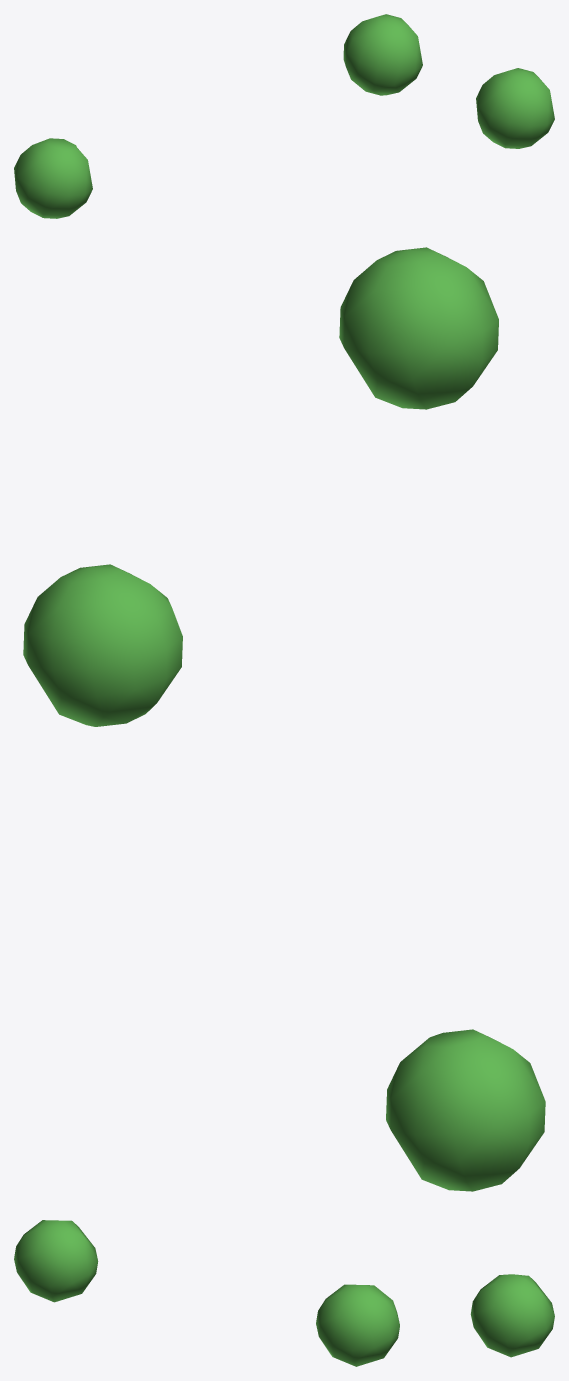
The model's file is linfatico-superior-pancreaticoduodenal-nodes.glb.
The picture shows the model from 3 angles, top to bottom: view 1: azimuth 30°, elevation 25°; view 2: azimuth 150°, elevation 25°; view 3: azimuth 270°, elevation 25°; orthographic projection. The views are drawn at different scales.
Visible parts, largest first — view 1: Superior pancreaticoduodenal nodes; view 2: Superior pancreaticoduodenal nodes; view 3: Superior pancreaticoduodenal nodes.
Part boxes in pixels (x1=…): Superior pancreaticoduodenal nodes: x1=14, y1=14, x2=554, y2=218; Superior pancreaticoduodenal nodes: x1=23, y1=247, x2=545, y2=1191; Superior pancreaticoduodenal nodes: x1=14, y1=1220, x2=554, y2=1366.
Size of the model in its own units: 0.0119 by 0.00856 by 0.0165.
